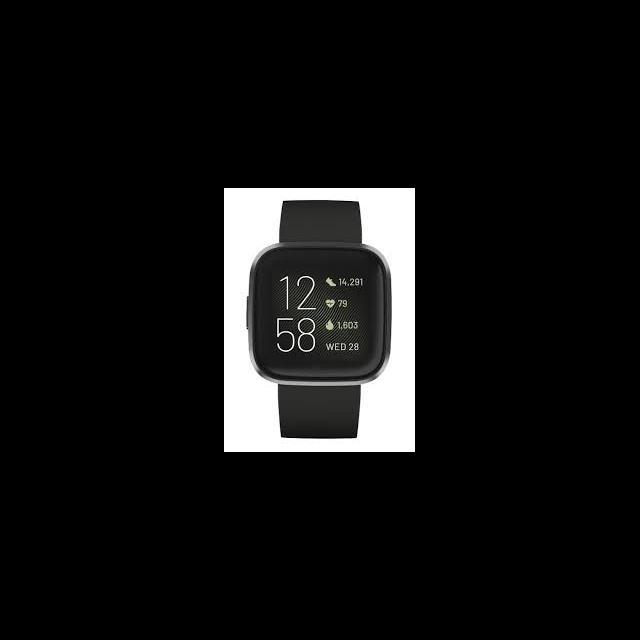watch: (255, 188, 388, 437)
